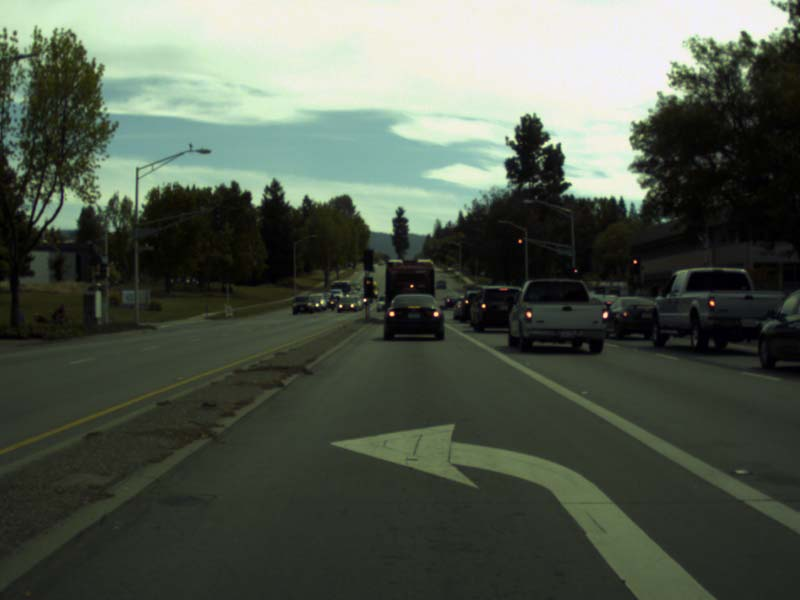Red: (364, 278, 371, 297), (632, 258, 638, 274), (518, 239, 521, 248), (574, 269, 577, 278)
